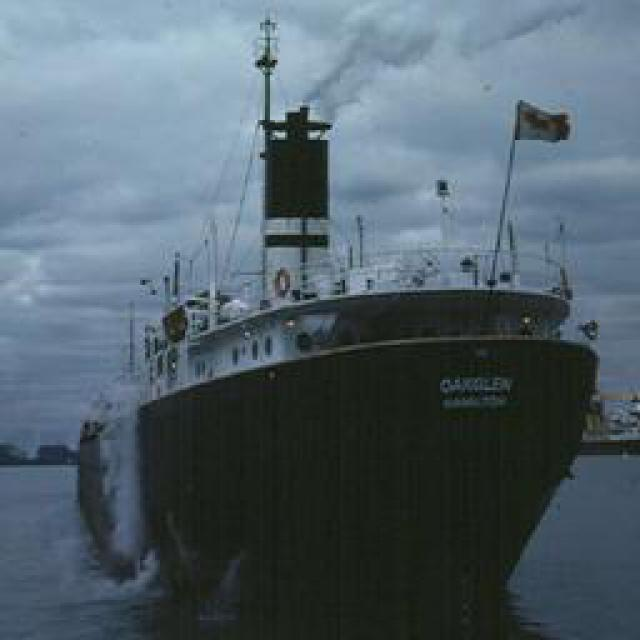Ship: (107, 173, 597, 618)
